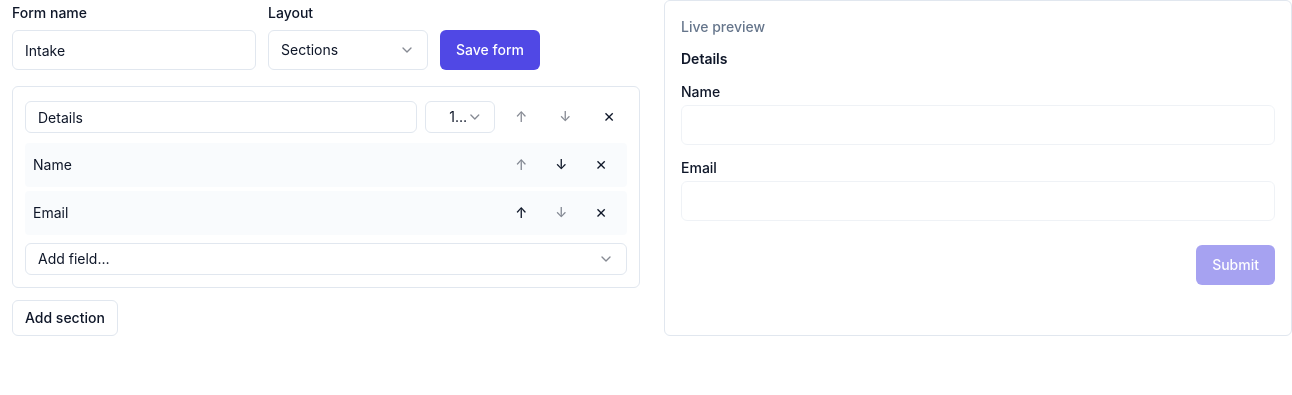
Test: FormBuilder › adds an unplaced field to a section
Click the dropdown named "Add field to Details".
click(74, 258)  # box x1=25 y1=243 x2=627 y2=275
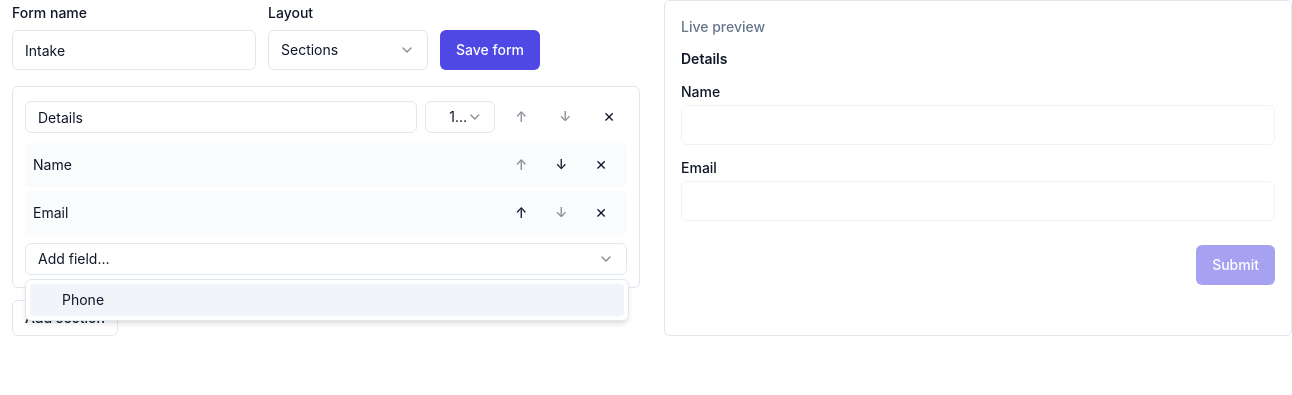
Click the option "Phone".
click(83, 300)  # box x1=30 y1=284 x2=624 y2=316
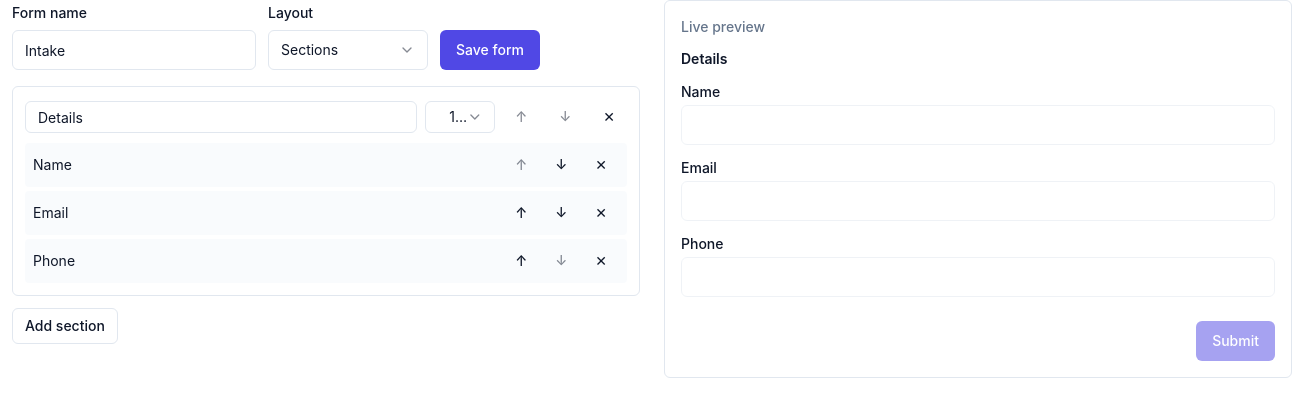
Now the button named "Move phone down" is shown, box x1=543 y1=243 x2=579 y2=279
